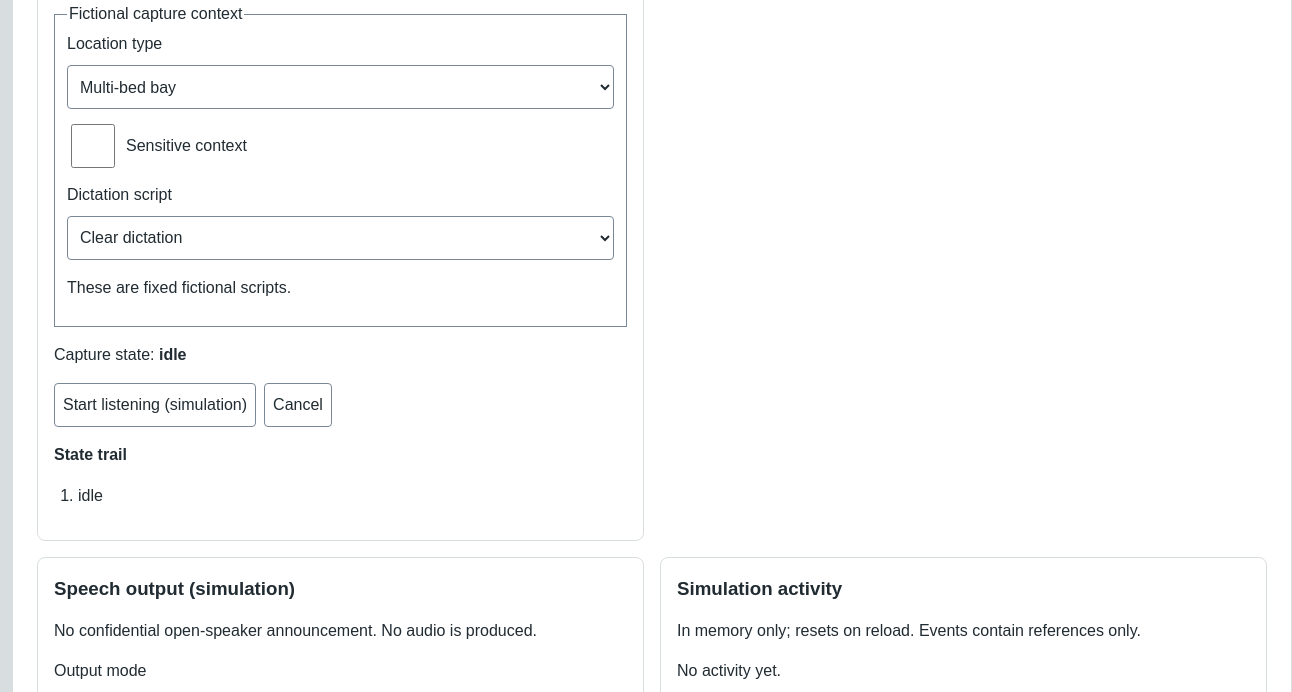
Test: returns focus after cancellation from idle
The image size is (1292, 692).
(page scrolled)
Click the button "Cancel": (298, 405) [264,383,332,427]
(page scrolled)
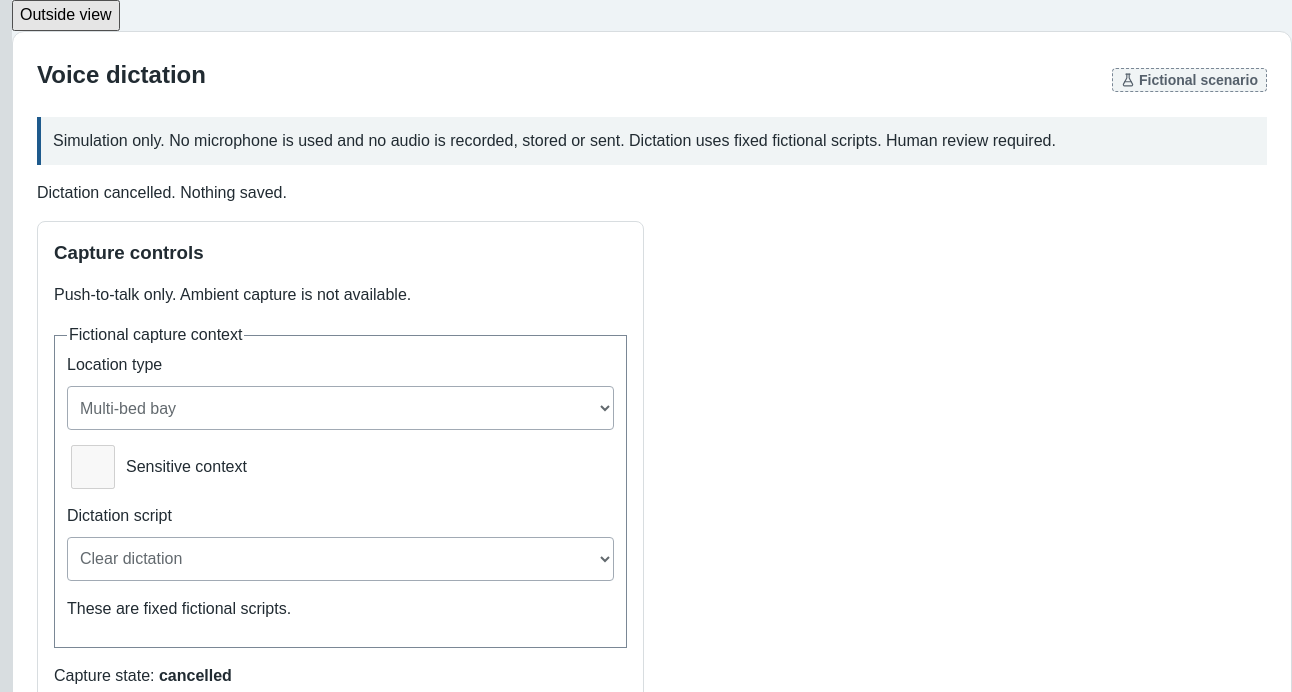
Check: the message reads "Dictation cancelled. Nothing saved.", box [37,184,287,201]
